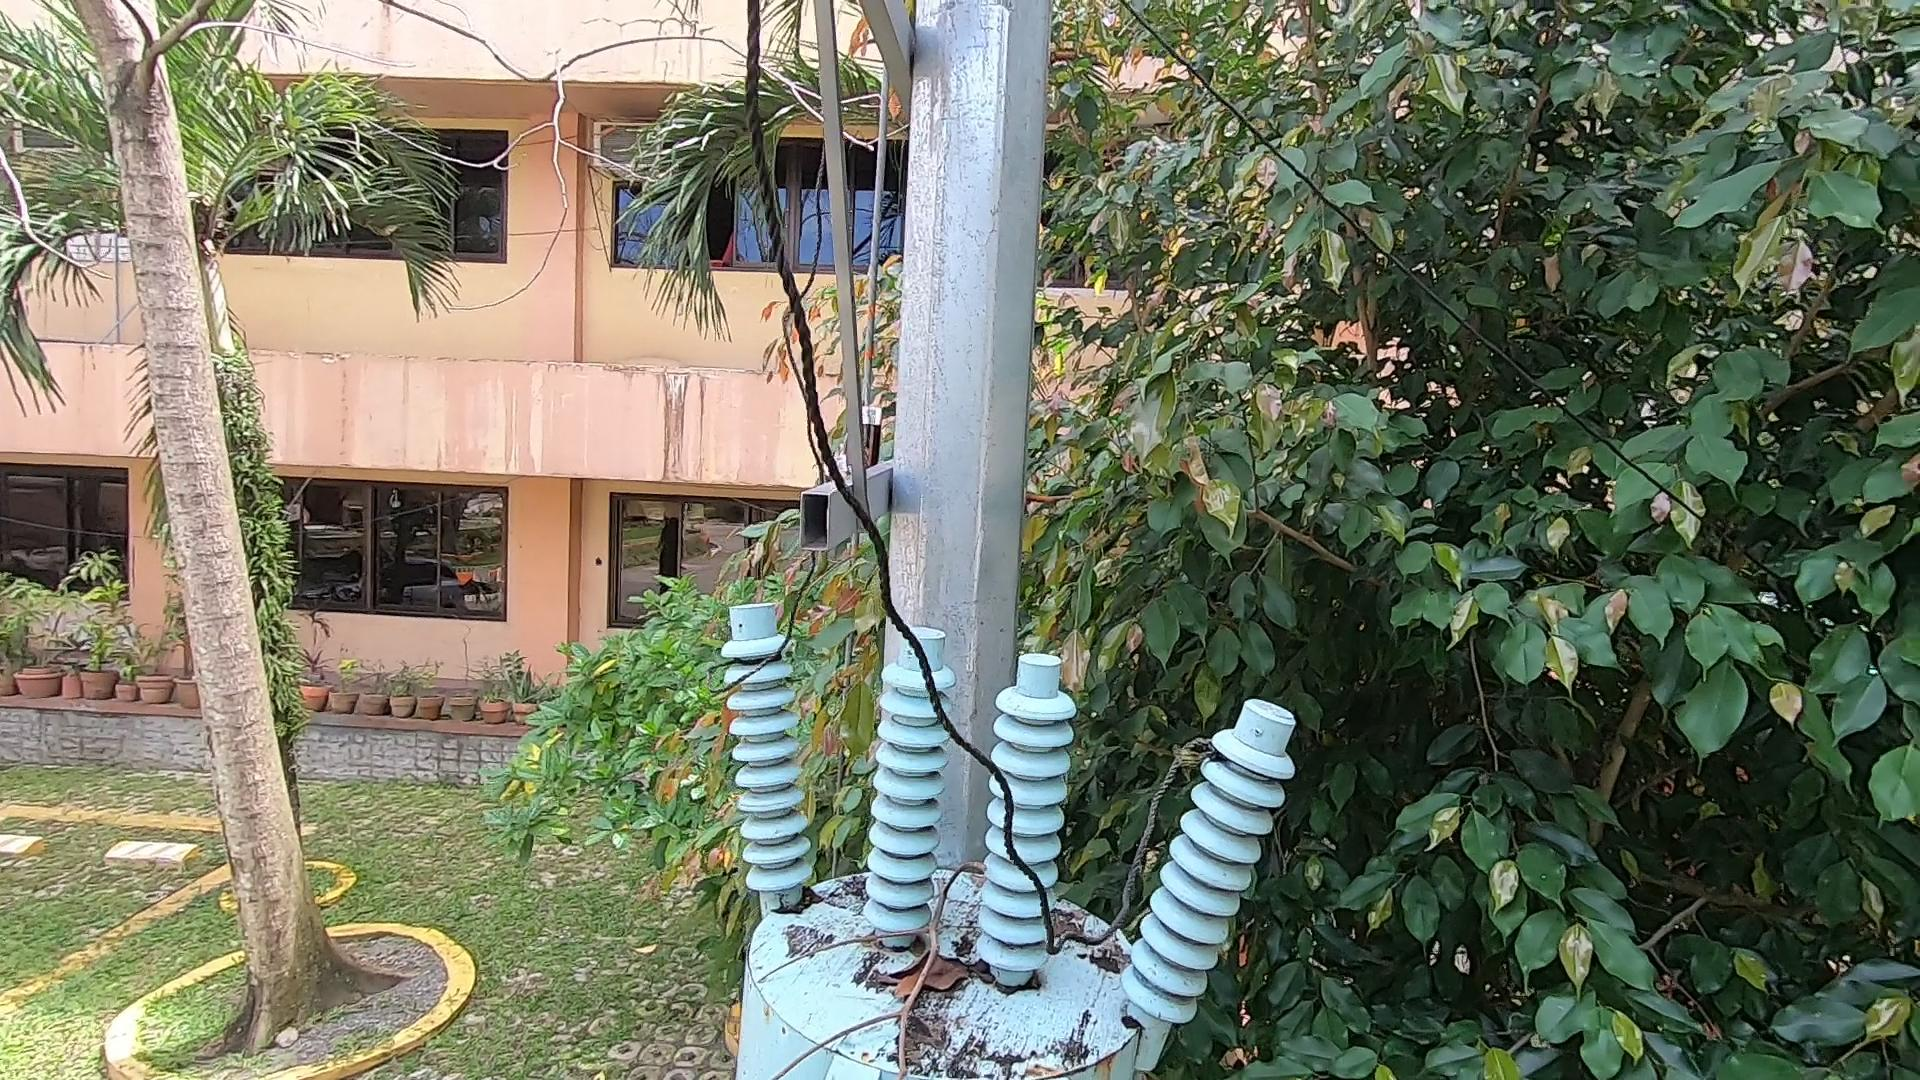leaf: (874, 938, 1002, 1007), (1051, 910, 1129, 982), (771, 878, 827, 924)
tree branch: (770, 818, 986, 1080)
